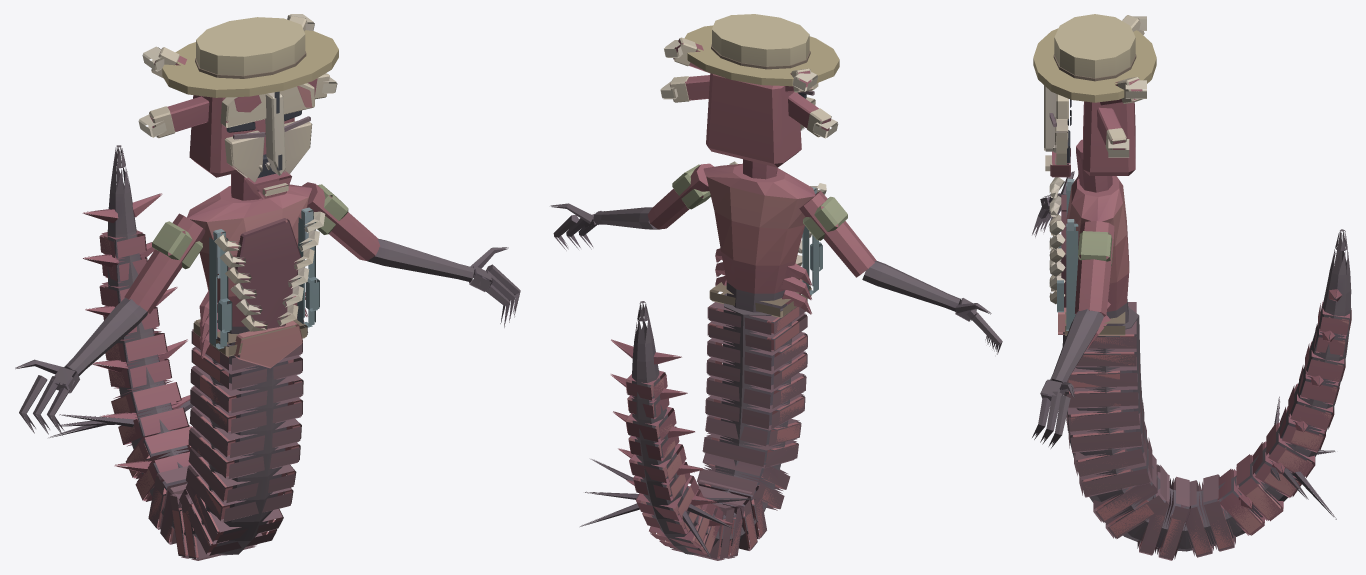
File: DredgeFarmer.glb
3 views of the same model, side by side, from view 1: azimuth 30°, elevation 25°; view 2: azimuth 150°, elevation 25°; view 3: azimuth 270°, elevation 25° (orthographic). The views are drawn at different scales.
Visible parts, largest first — view 1: Body, Head, ArmR, ArmL; view 2: Body, Head, ArmR, ArmL; view 3: Body, Head, ArmL, ArmR.
Part boxes in pixels (x1,y1,x2,y2): Body: [48, 145, 325, 560]; Head: [138, 14, 338, 200]; ArmR: [15, 213, 205, 435]; ArmL: [301, 182, 520, 327]; Body: [580, 161, 826, 560]; Head: [660, 14, 839, 179]; ArmR: [799, 190, 1002, 354]; ArmL: [550, 163, 713, 250]; Body: [1049, 175, 1351, 560]; Head: [1033, 14, 1156, 192]; ArmL: [1032, 221, 1114, 448]; ArmR: [1032, 171, 1078, 237].
Size of the model in its own units: 6.83 by 7.11 by 4.02.
